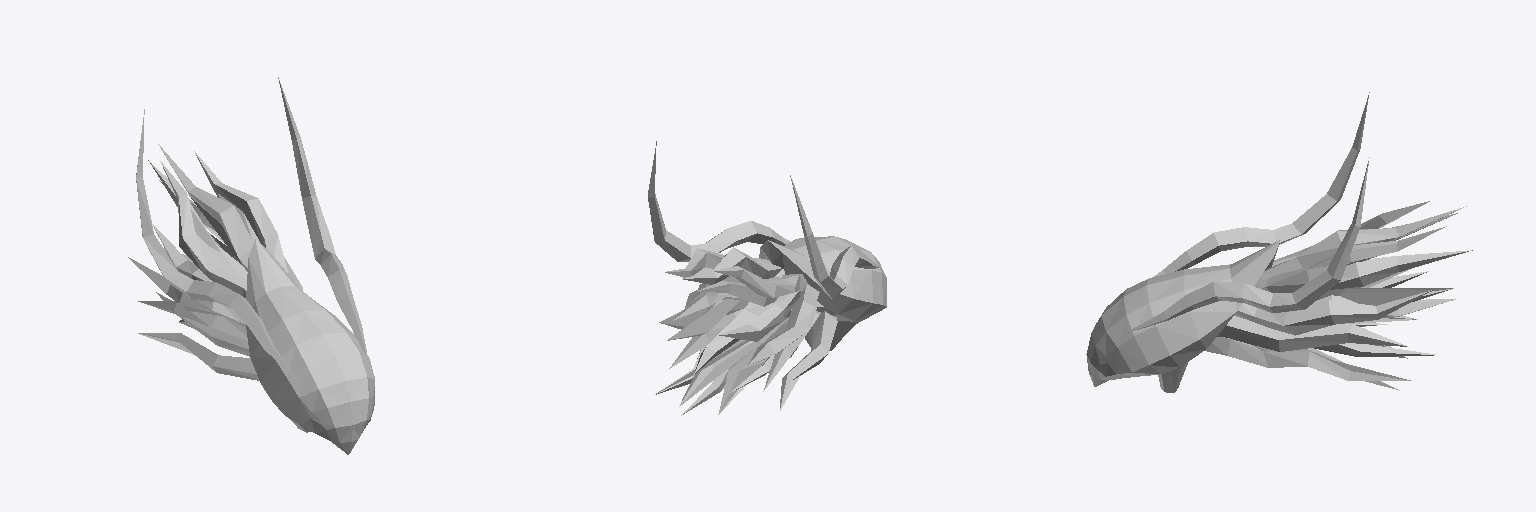
File: head-11_arkadimon_ultimate.blend.obj
3 renders of one model, left to right at view 1: azimuth 30°, elevation 25°; view 2: azimuth 150°, elevation 25°; view 3: azimuth 270°, elevation 25°, orthographic.
Parts seen in each view (by area): view 1: head-11_arkadimon_ultimate.blend_Arkadimon.007; view 2: head-11_arkadimon_ultimate.blend_Arkadimon.007; view 3: head-11_arkadimon_ultimate.blend_Arkadimon.007.
Boxes of the visible parts, box(x1,y1,x2,y2) form: head-11_arkadimon_ultimate.blend_Arkadimon.007: box(128, 77, 374, 454); head-11_arkadimon_ultimate.blend_Arkadimon.007: box(648, 141, 886, 415); head-11_arkadimon_ultimate.blend_Arkadimon.007: box(1086, 92, 1472, 392).
Bounding box in the file's own units: 3.79 × 5.54 × 7.33.